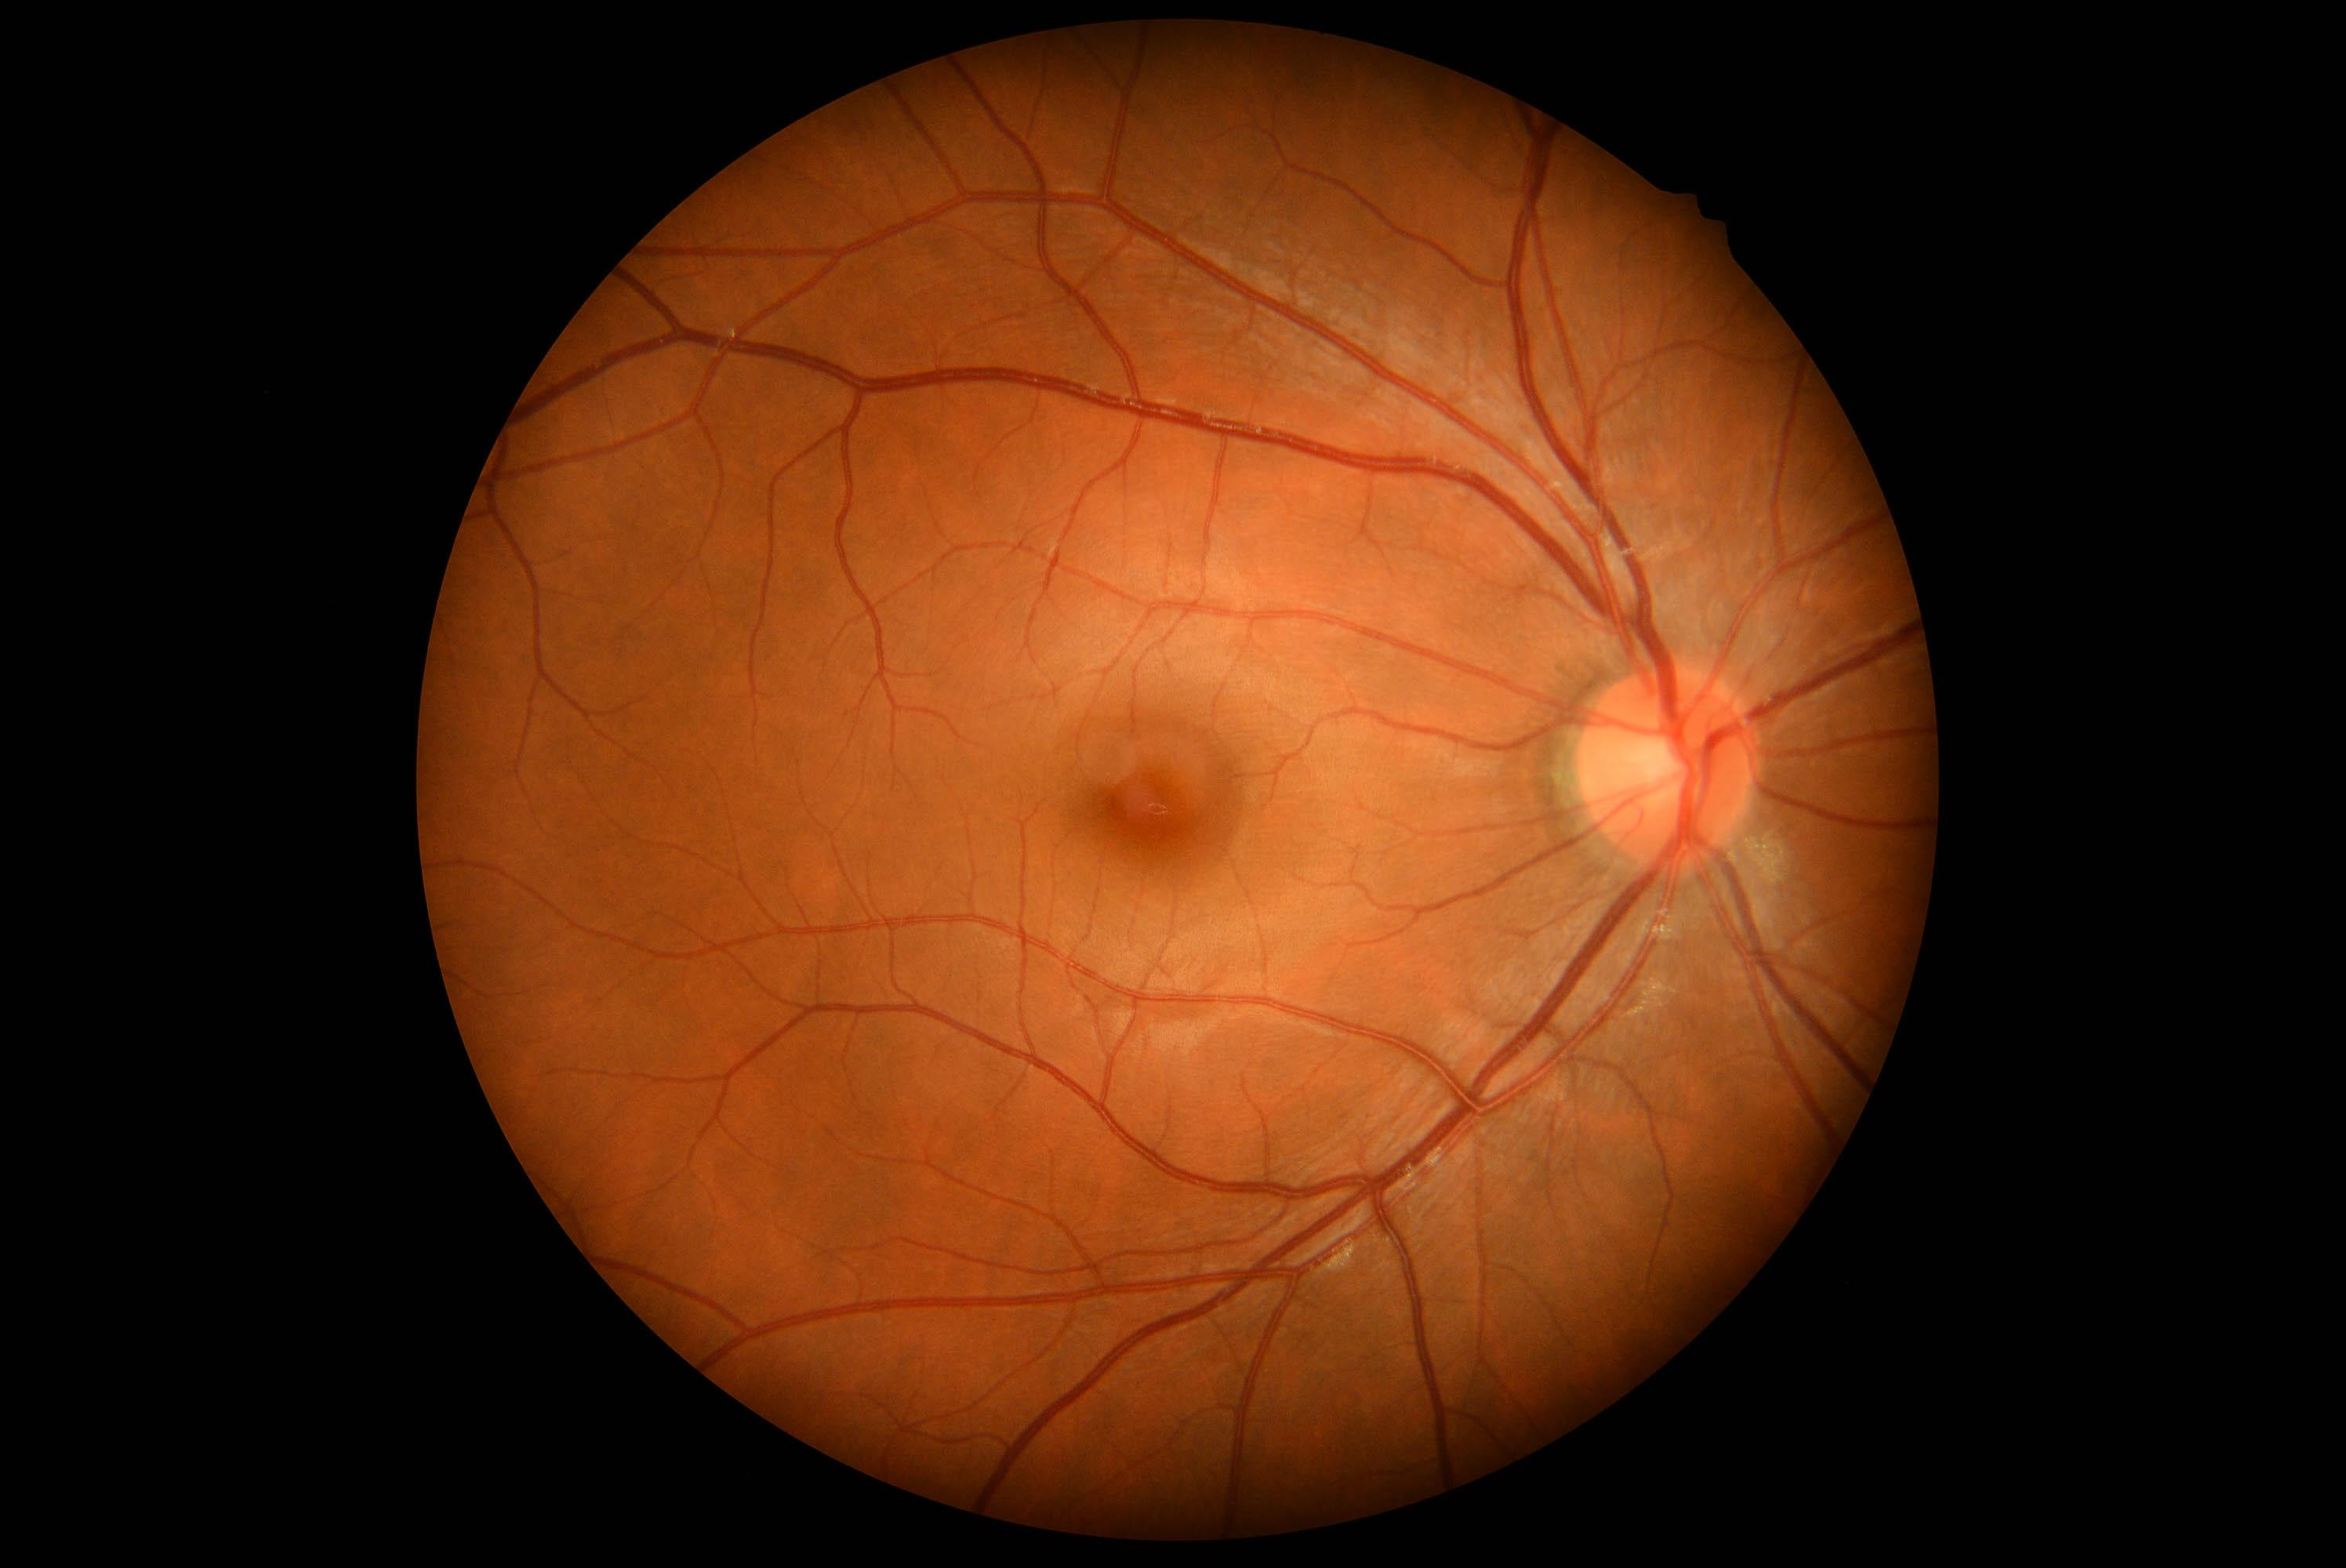Fovea: (1071, 728, 1225, 886)
